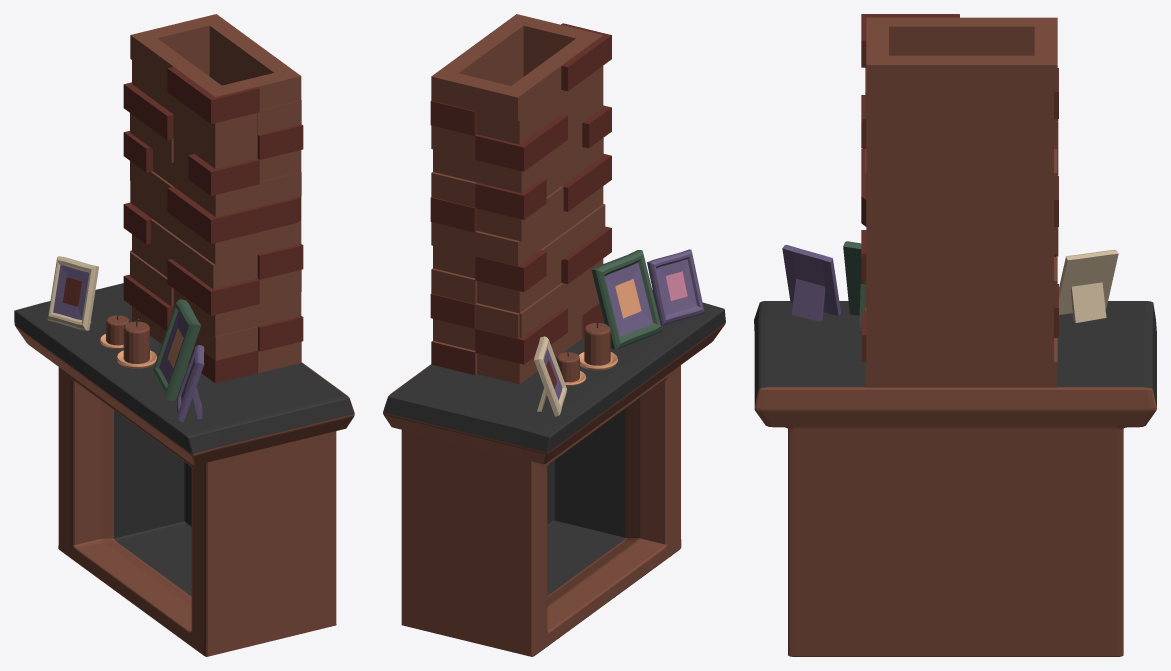
The model's file is Livingroom_Fireplace.fbx.
3 views of the same model, side by side, from view 1: azimuth 30°, elevation 25°; view 2: azimuth 150°, elevation 25°; view 3: azimuth 270°, elevation 25° (orthographic). The views are drawn at different scales.
Parts seen in each view (by area): view 1: Livingroom_Fireplace.001, Livingroom_Fireplace.002, Livingroom_Fireplace.003, Livingroom_Fireplace.008, Livingroom_Fireplace.005, Livingroom_Fireplace.004, Livingroom_Fireplace.006, Livingroom_Fireplace; view 2: Livingroom_Fireplace.001, Livingroom_Fireplace.002, Livingroom_Fireplace.003, Livingroom_Fireplace.005, Livingroom_Fireplace.008, Livingroom_Fireplace.006, Livingroom_Fireplace.004, Livingroom_Fireplace; view 3: Livingroom_Fireplace.001, Livingroom_Fireplace.002, Livingroom_Fireplace.004, Livingroom_Fireplace.006, Livingroom_Fireplace.003, Livingroom_Fireplace.008.
Boxes of the visible parts, x1,y1,x2,y2 form: Livingroom_Fireplace.001: [15, 14, 354, 656]; Livingroom_Fireplace.002: [14, 283, 354, 596]; Livingroom_Fireplace.003: [62, 66, 303, 383]; Livingroom_Fireplace.008: [153, 299, 201, 400]; Livingroom_Fireplace.005: [53, 265, 194, 402]; Livingroom_Fireplace.004: [47, 256, 98, 330]; Livingroom_Fireplace.006: [177, 345, 204, 421]; Livingroom_Fireplace: [99, 328, 183, 368]; Livingroom_Fireplace.001: [383, 14, 725, 656]; Livingroom_Fireplace.002: [383, 290, 725, 595]; Livingroom_Fireplace.003: [430, 23, 611, 388]; Livingroom_Fireplace.005: [544, 259, 697, 400]; Livingroom_Fireplace.008: [591, 250, 661, 349]; Livingroom_Fireplace.006: [647, 249, 704, 325]; Livingroom_Fireplace.004: [534, 336, 566, 416]; Livingroom_Fireplace: [565, 278, 641, 385]; Livingroom_Fireplace.001: [754, 17, 1156, 656]; Livingroom_Fireplace.002: [754, 301, 1156, 407]; Livingroom_Fireplace.004: [1059, 250, 1118, 322]; Livingroom_Fireplace.006: [782, 245, 840, 321]; Livingroom_Fireplace.003: [861, 14, 1058, 361]; Livingroom_Fireplace.008: [843, 241, 865, 327].
Bounding box in the file's own units: 144 × 234 × 77.31.
